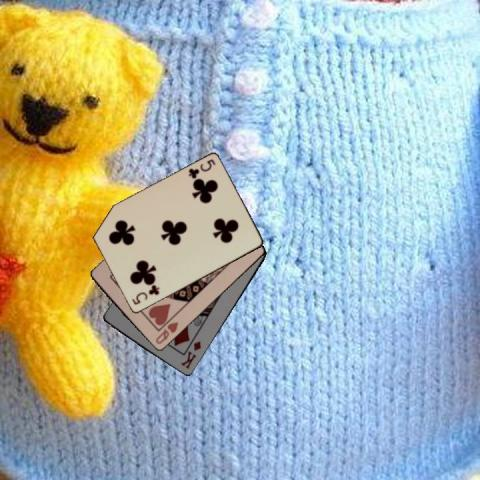5c: (128, 282, 160, 306), (185, 156, 217, 180)
Kd: (178, 338, 203, 371)
Qh: (153, 319, 180, 345)
